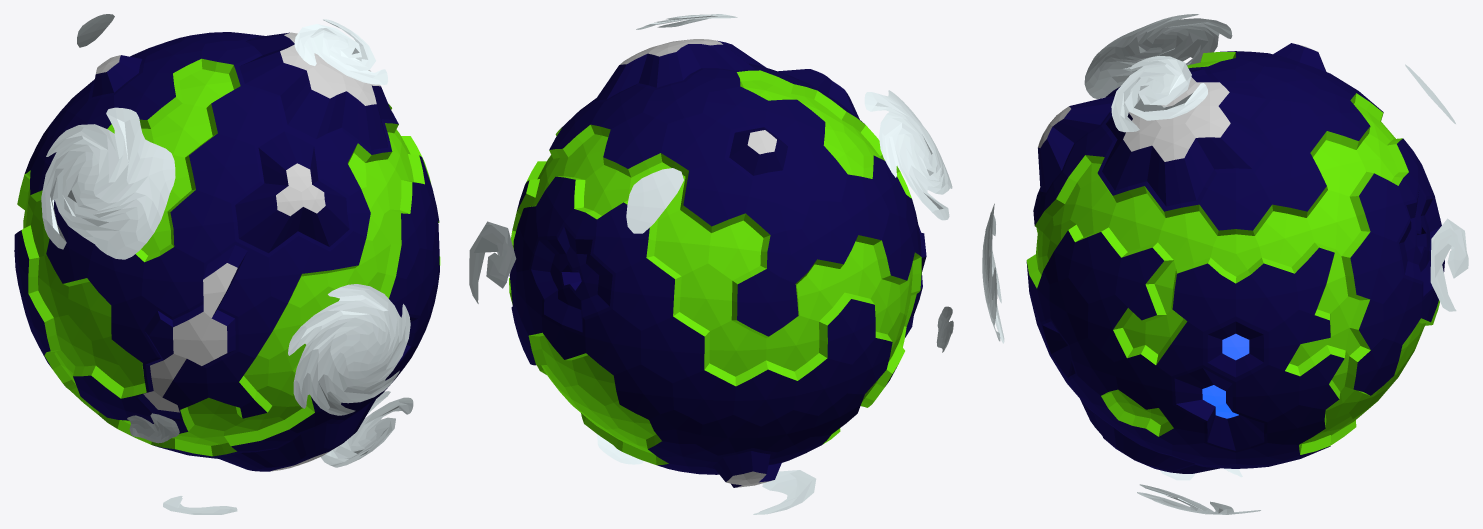
File: Planet5Evo5.glb
3 renders of one model, left to right at view 1: azimuth 30°, elevation 25°; view 2: azimuth 150°, elevation 25°; view 3: azimuth 270°, elevation 25°, orthographic. The views are drawn at different scales.
Parts seen in each view (by area): view 1: Icosphere.034; view 2: Icosphere.034; view 3: Icosphere.034.
Boxes of the visible parts, left/top/right/bottom form: Icosphere.034: left=14, top=14, right=440, bottom=514; Icosphere.034: left=469, top=14, right=953, bottom=514; Icosphere.034: left=982, top=14, right=1468, bottom=514.
Size of the model in its own units: 1.91 by 2.19 by 2.11.
